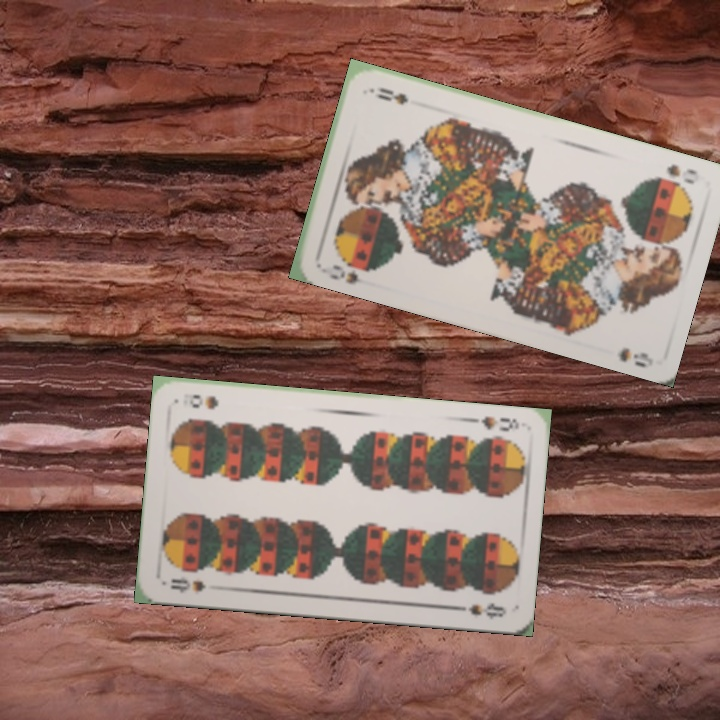S8: (465, 412, 522, 434), (166, 573, 208, 595)
SO: (325, 256, 377, 289), (663, 160, 700, 187)
